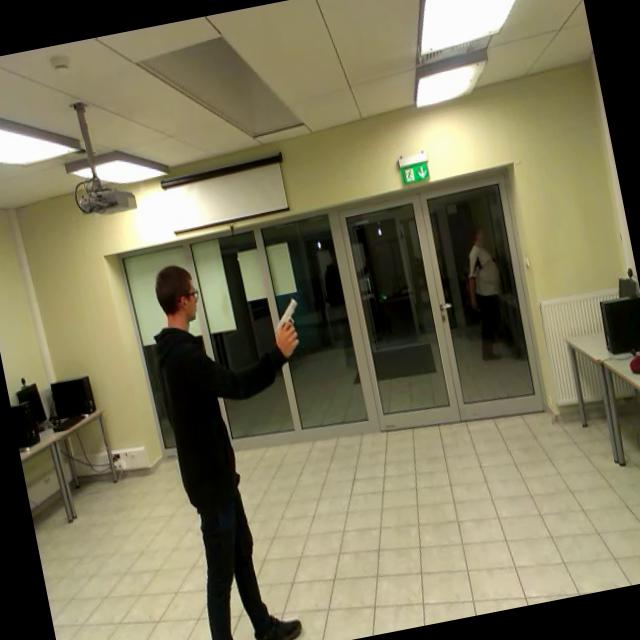handgun: (261, 290, 320, 362)
